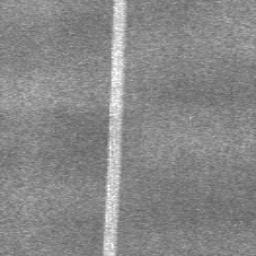Bright scratch: (103, 0, 126, 256)
